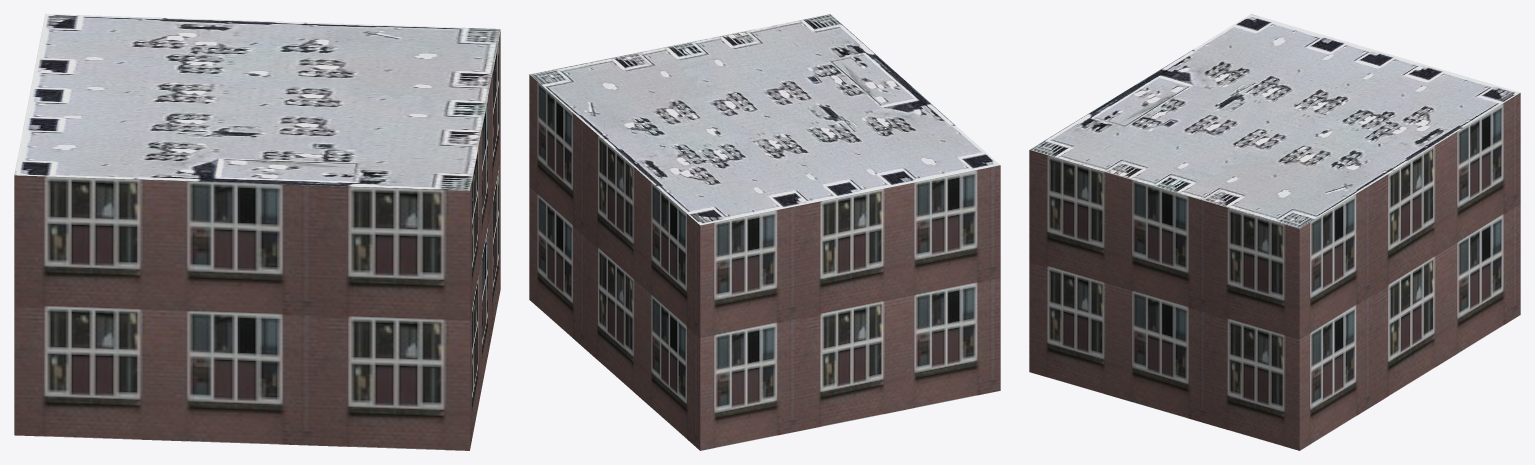
The model's file is ResTex__3797.fbx.
The picture shows the model from 3 angles, left to right: view 1: azimuth 30°, elevation 25°; view 2: azimuth 150°, elevation 25°; view 3: azimuth 270°, elevation 25°; orthographic projection. The views are drawn at different scales.
Visible parts, largest first — view 1: CityEngineMaterial_12_m, CityEngineMaterial_4_m; view 2: CityEngineMaterial_12_m, CityEngineMaterial_4_m; view 3: CityEngineMaterial_12_m, CityEngineMaterial_4_m.
Boxes of the visible parts, x1,y1,x2,y2 form: CityEngineMaterial_12_m: (14, 30, 500, 450); CityEngineMaterial_4_m: (14, 14, 500, 190); CityEngineMaterial_12_m: (529, 74, 1000, 450); CityEngineMaterial_4_m: (530, 14, 999, 225); CityEngineMaterial_12_m: (1029, 93, 1520, 450); CityEngineMaterial_4_m: (1029, 14, 1519, 228).
Bounding box in the file's own units: 12.43 × 6 × 12.02.
Materials: 2 (2 with a texture image).
